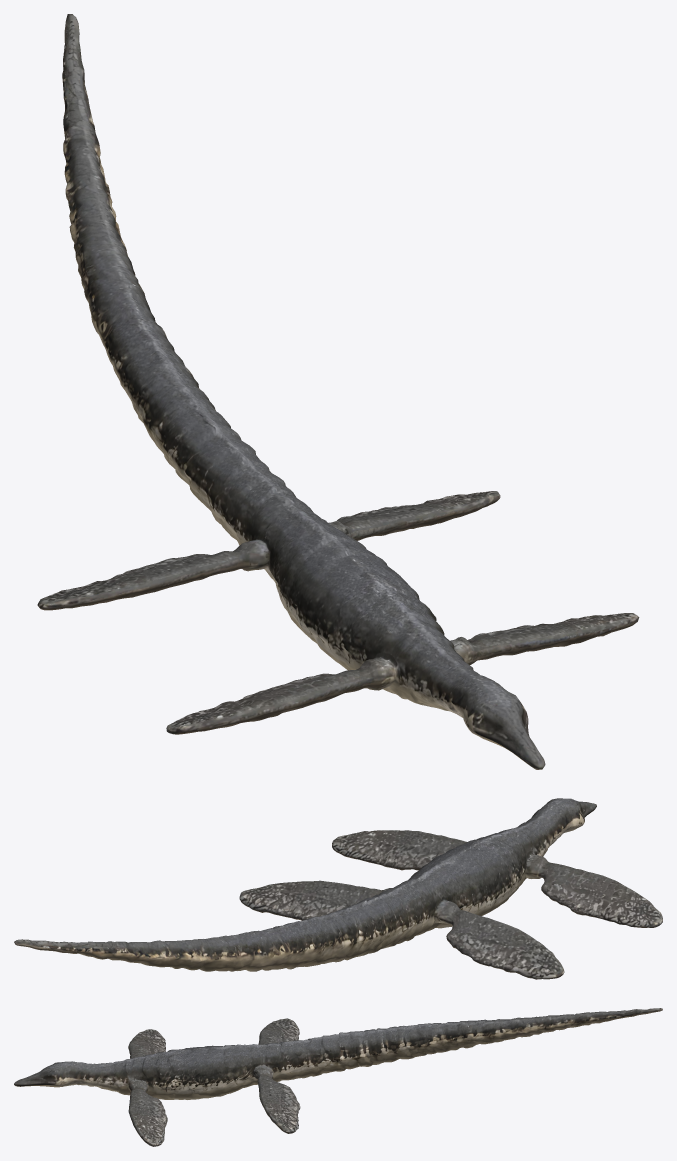
File: askeptosaurus.raw.glb
3 views of the same model, one above another, from view 1: azimuth 30°, elevation 25°; view 2: azimuth 150°, elevation 25°; view 3: azimuth 270°, elevation 25° (orthographic). The views are drawn at different scales.
Parts seen in each view (by area): view 1: tripo_node_5b497dd2-0f06-4764-8d91-401dd19f5ad0; view 2: tripo_node_5b497dd2-0f06-4764-8d91-401dd19f5ad0; view 3: tripo_node_5b497dd2-0f06-4764-8d91-401dd19f5ad0.
Boxes of the visible parts, x1,y1,x2,y2 form: tripo_node_5b497dd2-0f06-4764-8d91-401dd19f5ad0: [37, 14, 639, 769]; tripo_node_5b497dd2-0f06-4764-8d91-401dd19f5ad0: [14, 798, 662, 979]; tripo_node_5b497dd2-0f06-4764-8d91-401dd19f5ad0: [14, 1008, 662, 1146].
Bounding box in the file's own units: 0.4164 × 0.2268 × 1.
Materials: 1 (1 with a texture image).
